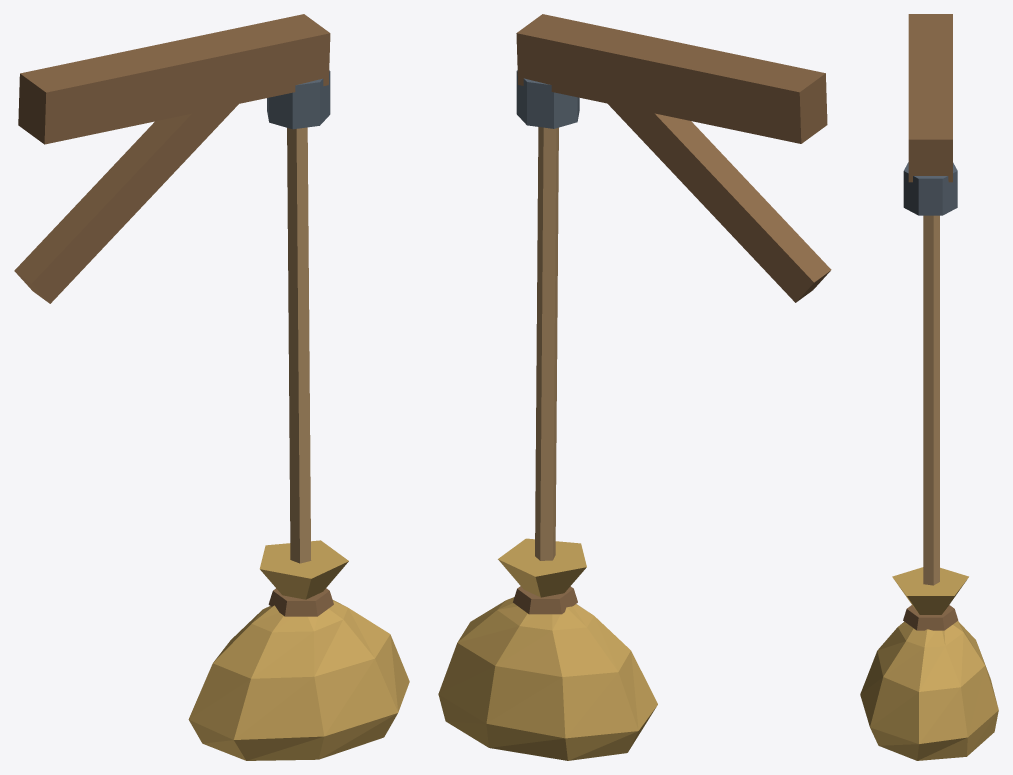
The model's file is work-hoist.glb.
3 views of the same model, side by side, from view 1: azimuth 30°, elevation 25°; view 2: azimuth 150°, elevation 25°; view 3: azimuth 270°, elevation 25° (orthographic). The views are drawn at different scales.
Visible parts, largest first — view 1: work-hoist; view 2: work-hoist; view 3: work-hoist.
Part boxes in pixels (x1,y1,x2,y2): work-hoist: (14,14,409,760); work-hoist: (438,14,831,760); work-hoist: (860,14,998,760).
Size of the model in its own units: 2.01 by 3.58 by 0.7503.
Materials: 1 (1 with a texture image).
